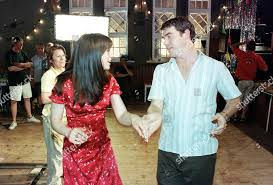Bad: (67, 16, 235, 185), (44, 33, 143, 185)
